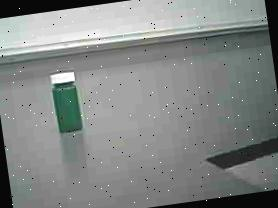Bottle C: (40, 66, 93, 144)
